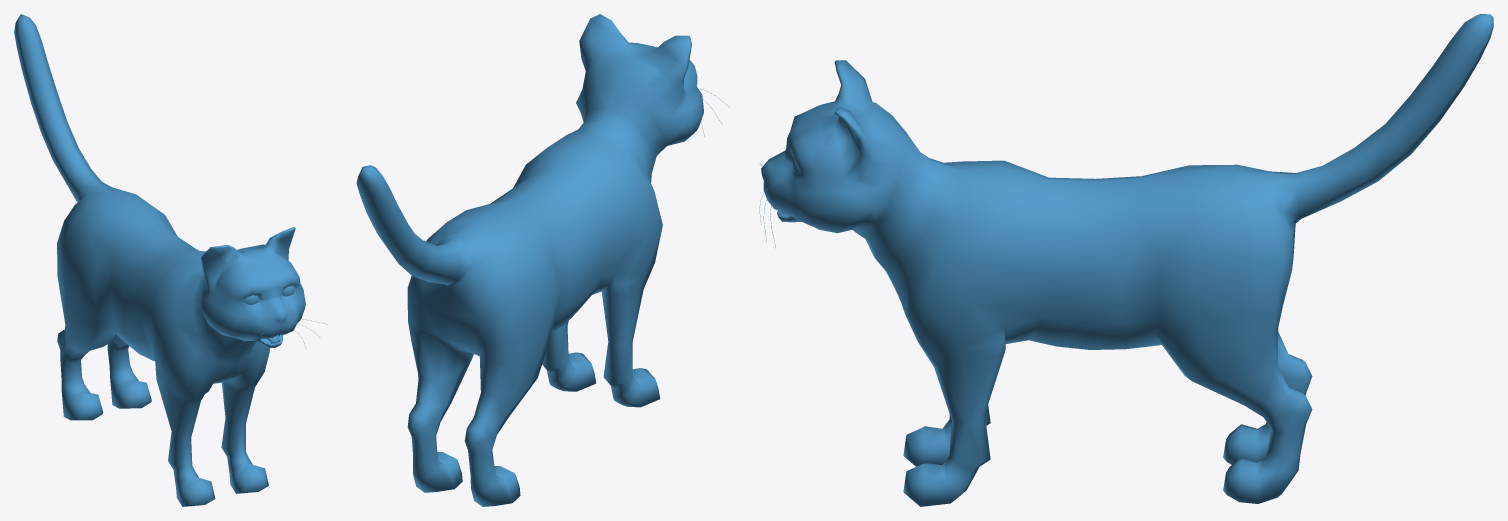
File: Cat.obj
3 renders of one model, left to right at view 1: azimuth 30°, elevation 25°; view 2: azimuth 150°, elevation 25°; view 3: azimuth 270°, elevation 25°, orthographic. The views are drawn at different scales.
Parts seen in each view (by area): view 1: Cat_(null); view 2: Cat_(null); view 3: Cat_(null).
Boxes of the visible parts, <box> form: Cat_(null): <box>14,14,326,506</box>; Cat_(null): <box>356,14,729,506</box>; Cat_(null): <box>759,14,1493,506</box>.
Size of the model in its own units: 0.2605 by 0.8276 by 1.18.
